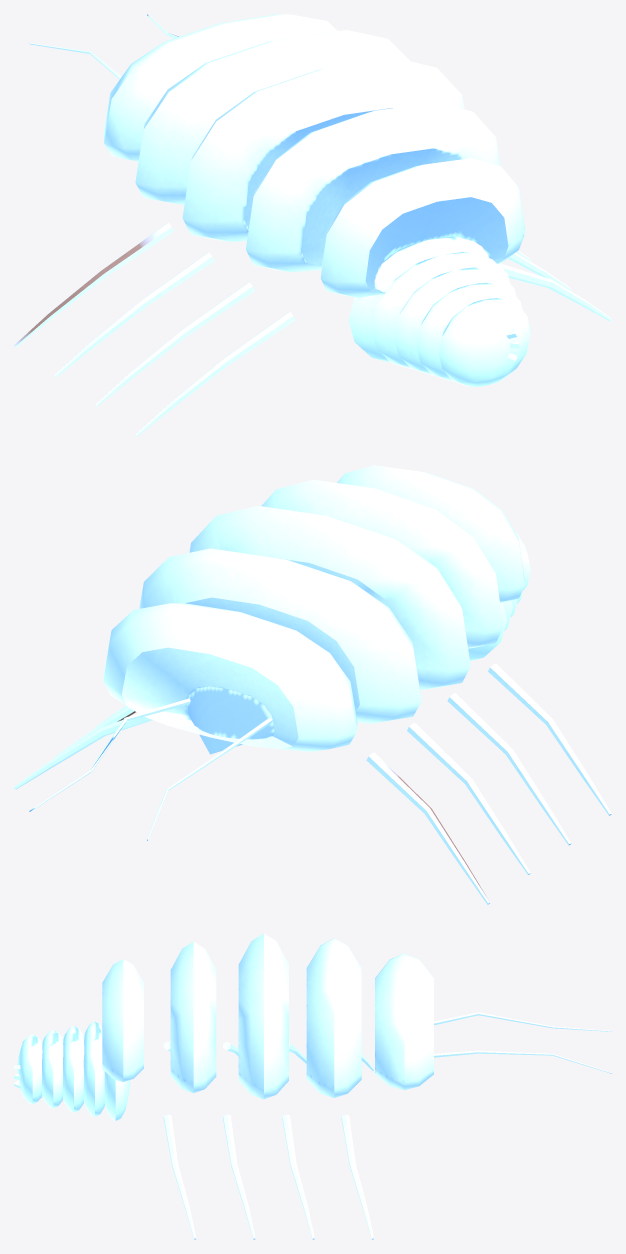
Rendered from munidopsis_serricornis.glb.
3 renders of one model, top to bottom at view 1: azimuth 30°, elevation 25°; view 2: azimuth 150°, elevation 25°; view 3: azimuth 270°, elevation 25°, orthographic. The views are drawn at different scales.
Visible parts, largest first — view 1: munidopsis_serricornis; view 2: munidopsis_serricornis; view 3: munidopsis_serricornis.
Boxes of the visible parts, left/top/right/bottom form: munidopsis_serricornis: left=14, top=14, right=611, bottom=436; munidopsis_serricornis: left=14, top=465, right=611, bottom=904; munidopsis_serricornis: left=14, top=933, right=611, bottom=1239.
Bounding box in the file's own units: 0.2604 × 0.1448 × 0.3877.
2 materials, 2 textured.
